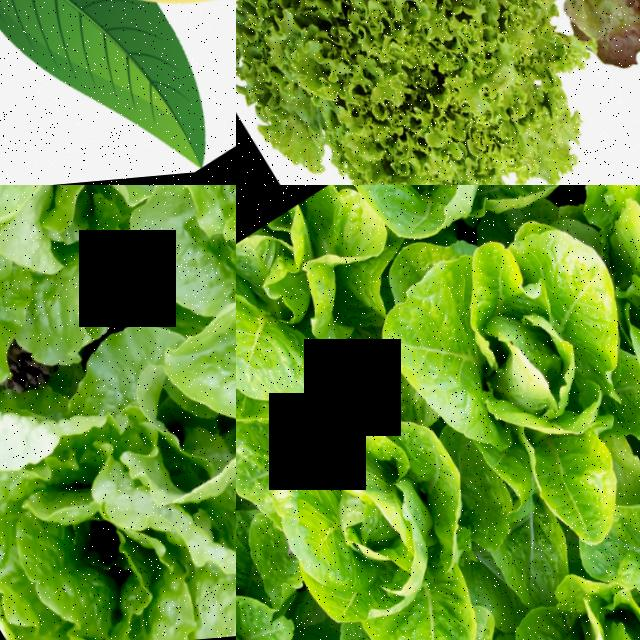lemon: (0, 0, 236, 114)
lettuce: (361, 203, 640, 587), (236, 348, 534, 640), (0, 298, 236, 640), (236, 0, 628, 185), (84, 185, 236, 614), (0, 185, 236, 454), (236, 185, 424, 471), (365, 566, 640, 640), (236, 483, 358, 640), (581, 404, 640, 640)
